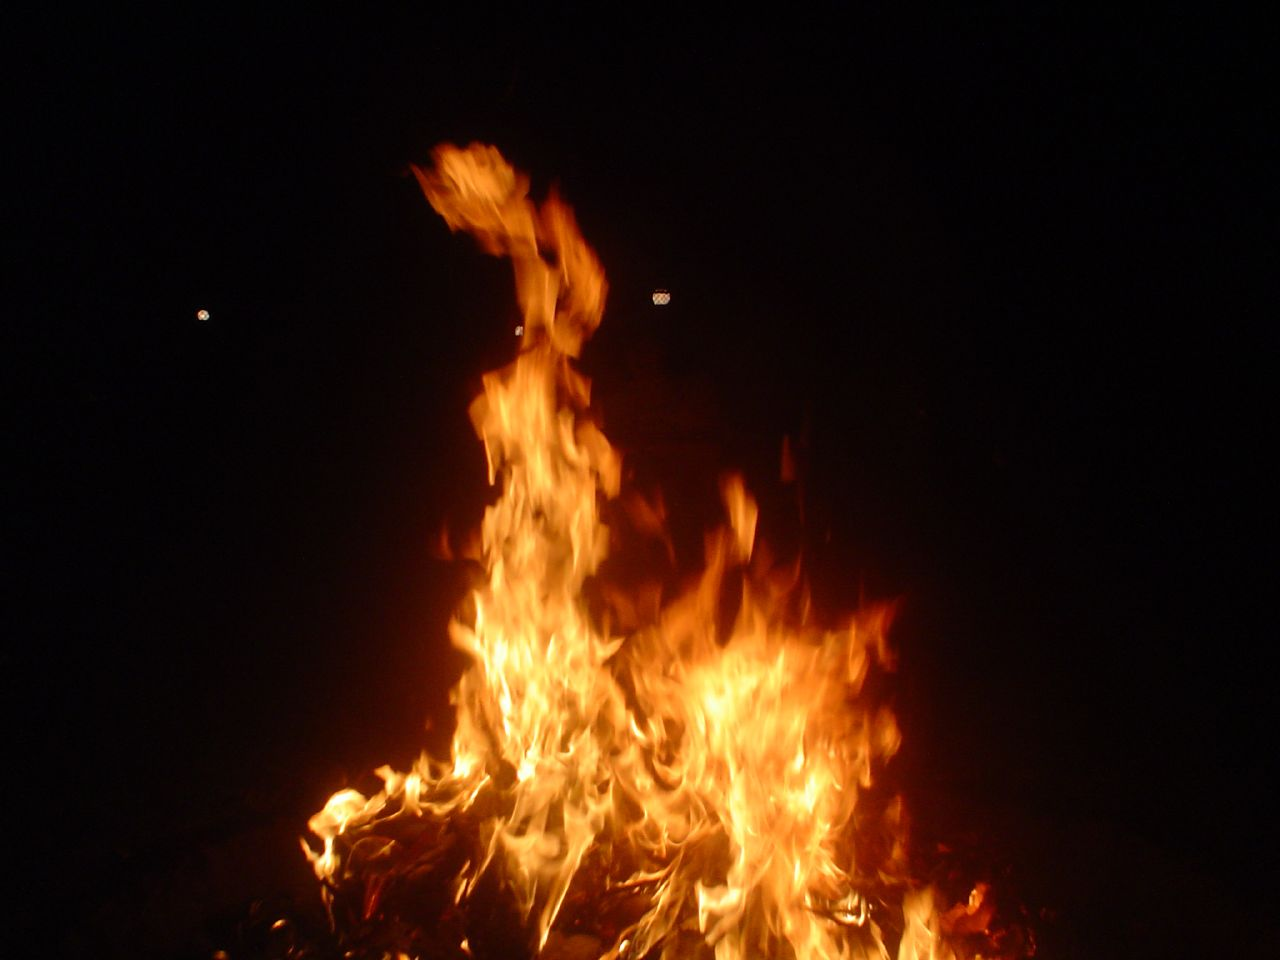fire: (267, 220, 1021, 947)
